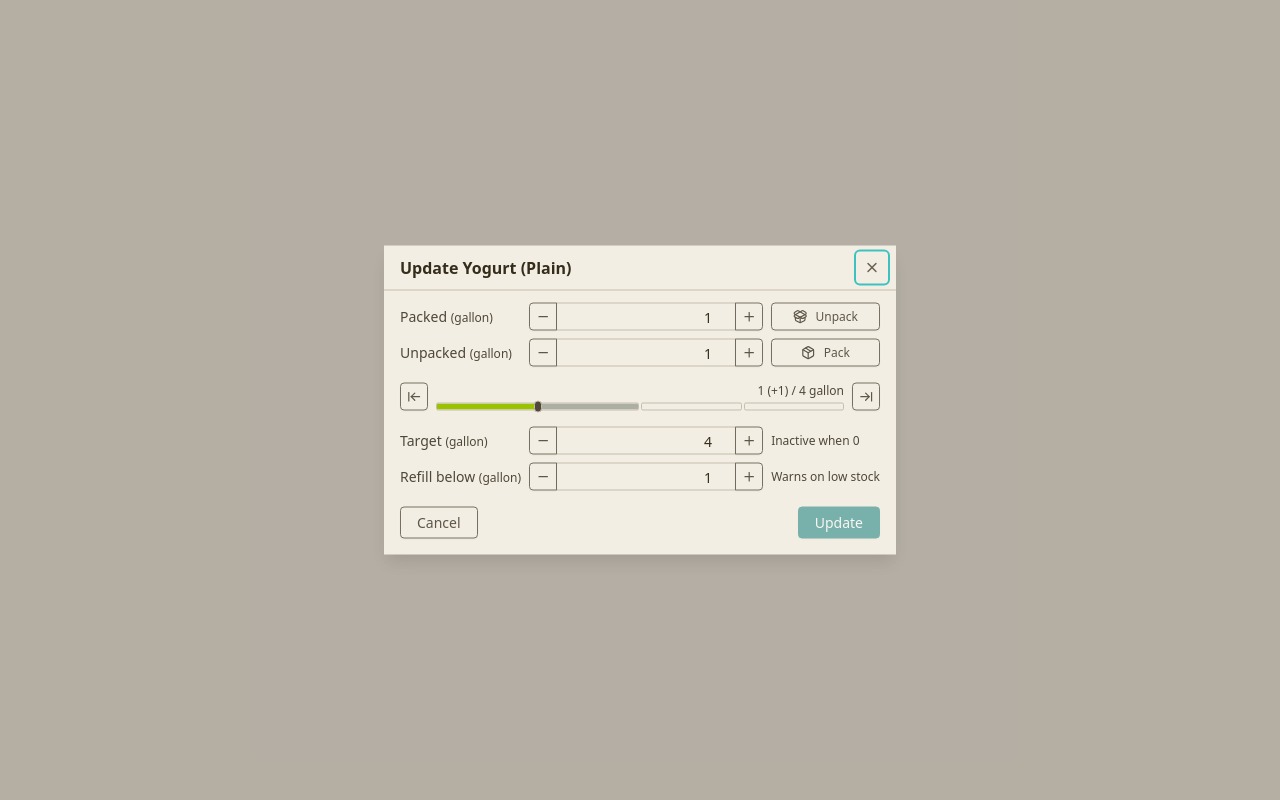
Test: QuickUpdateDialog — stepper fallback for consumeAmount 0 › user can increase the unpacked quantity on an item with consumeAmount 0
When the user clicks +
Click the button named "Increase unpacked": click(749, 352) [735,338,763,366]
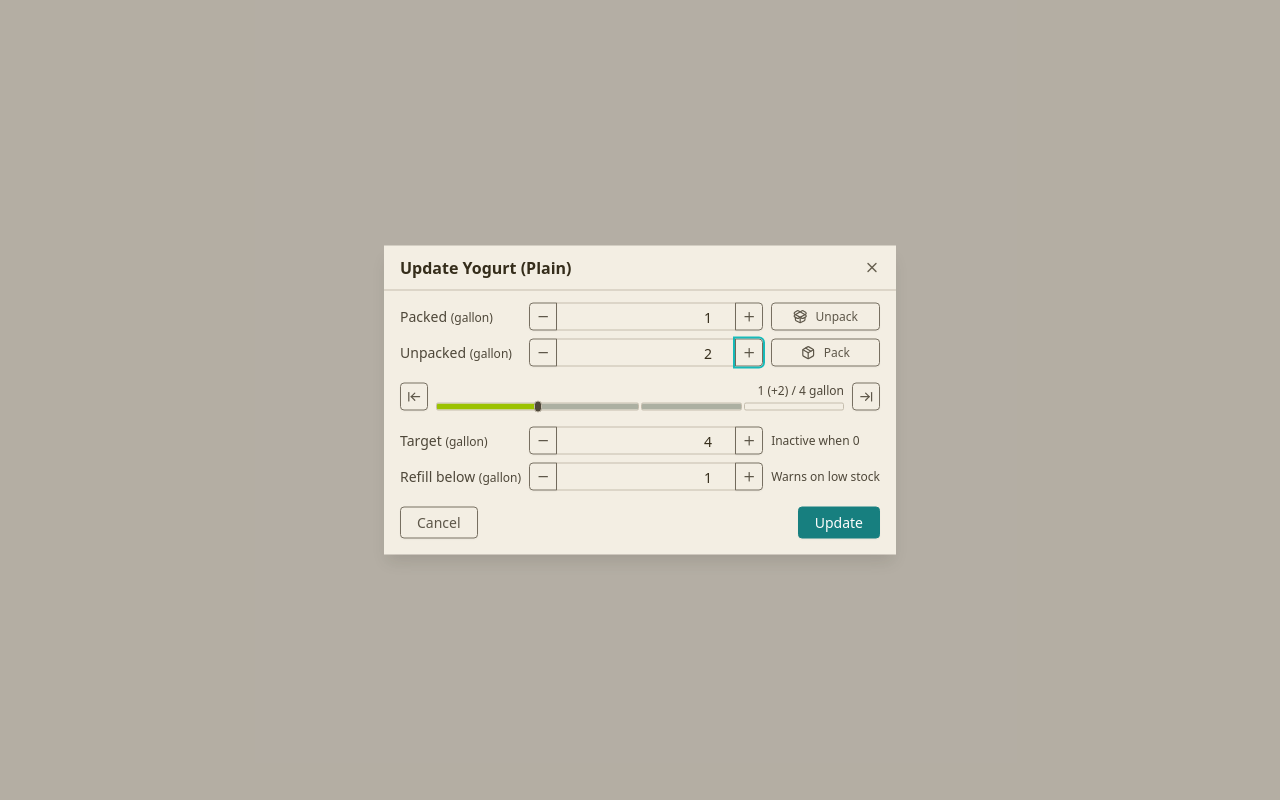
Expected: the number field named "Unpacked (gallon)" holds "2", [556,338,736,366]
